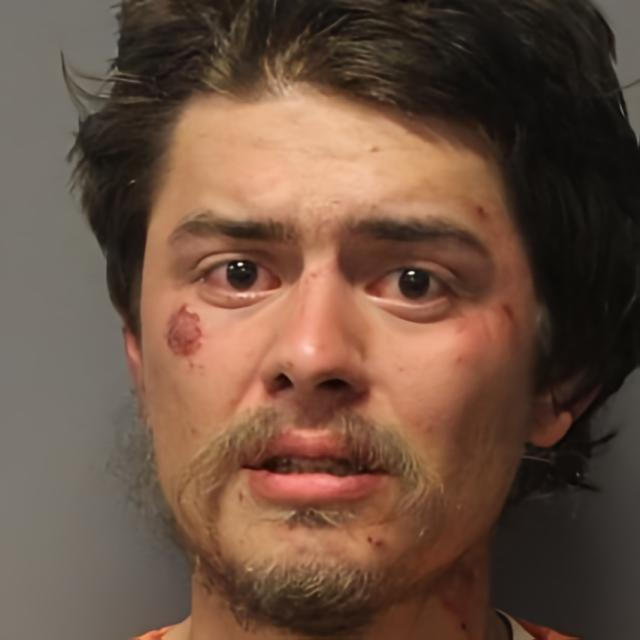Fear: (137, 64, 538, 623)
